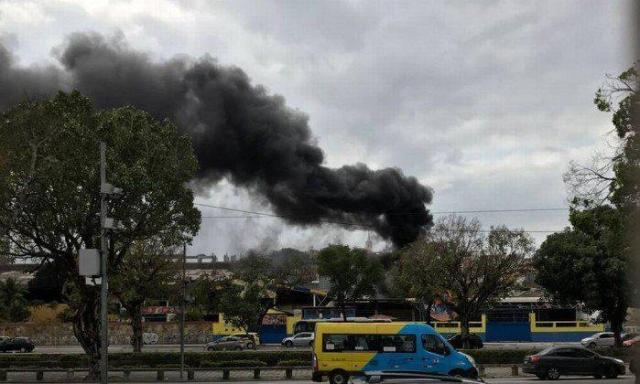smoke: (1, 1, 438, 254)
